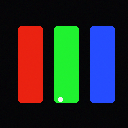0 point: (58, 97, 62, 101)
